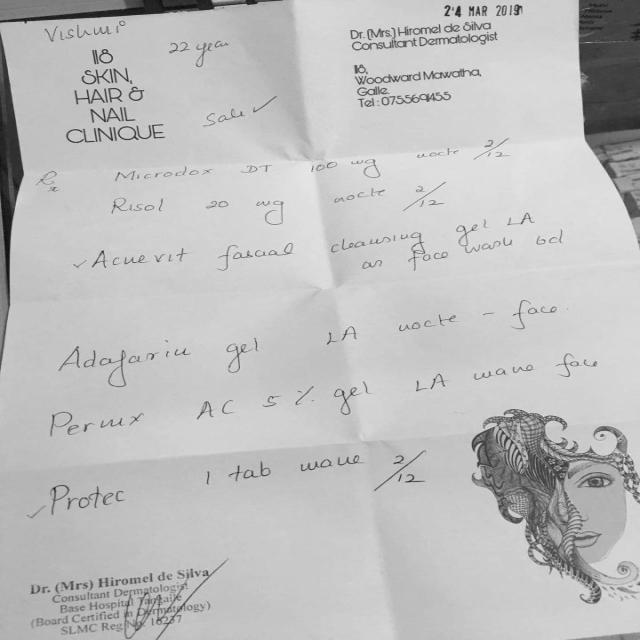Prescription: (49, 285, 582, 393)
